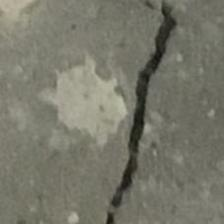Crack: (100, 0, 216, 224)
